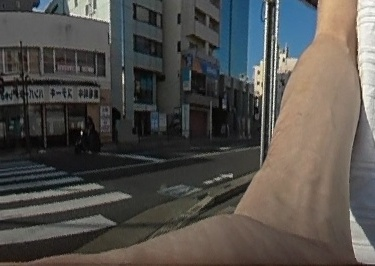person: (84, 113, 96, 147)
